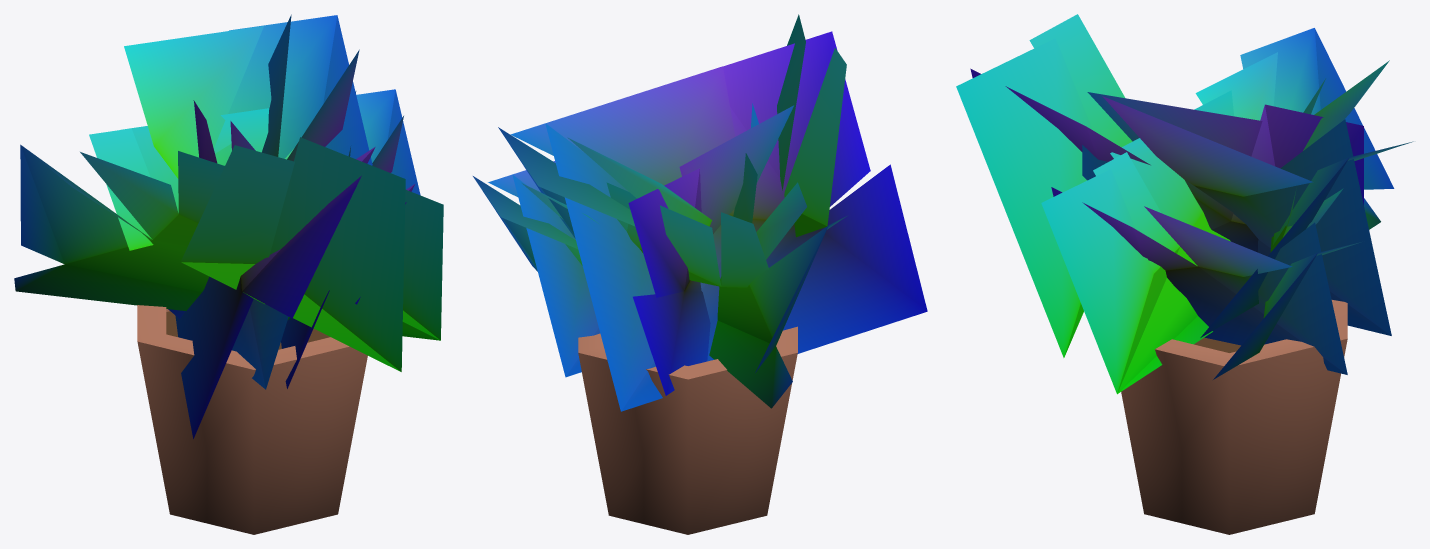
Rendered from plant_pot.dae.
3 views of the same model, side by side, from view 1: azimuth 30°, elevation 25°; view 2: azimuth 150°, elevation 25°; view 3: azimuth 270°, elevation 25° (orthographic). The views are drawn at different scales.
Visible parts, largest first — view 1: plant_pot_a40; view 2: plant_pot_a40; view 3: plant_pot_a40.
Part boxes in pixels (left/top/right/bottom): plant_pot_a40: left=14, top=14, right=443, bottom=534; plant_pot_a40: left=473, top=14, right=927, bottom=534; plant_pot_a40: left=956, top=14, right=1413, bottom=534.
Size of the model in its own units: 0.674 by 0.7017 by 0.7334.
